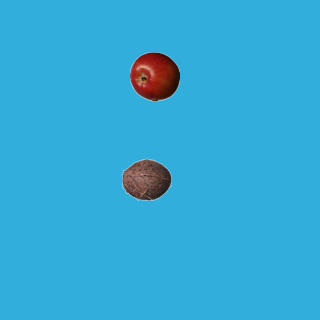Apple Braeburn: (129, 51, 179, 101)
Cocos: (121, 154, 171, 204)
